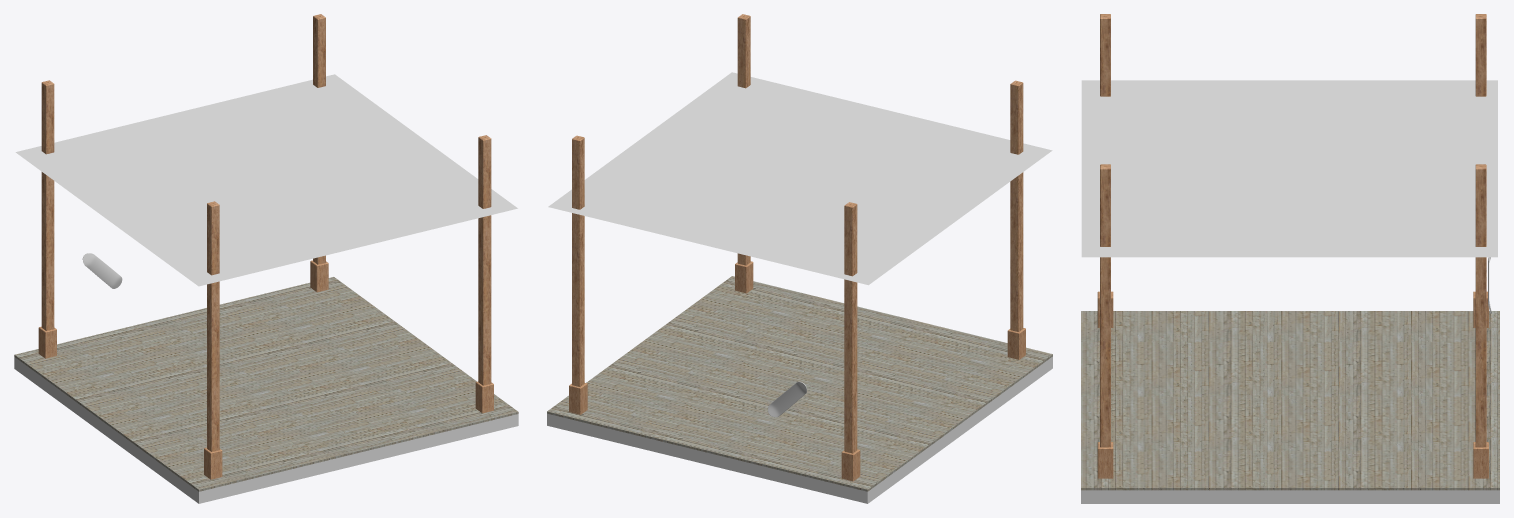
3 views of the same model, side by side, from view 1: azimuth 30°, elevation 25°; view 2: azimuth 150°, elevation 25°; view 3: azimuth 270°, elevation 25° (orthographic). The views are drawn at different scales.
Visible parts, largest first — view 1: Floor, Floor.004, Pole.006, Pole.001, Pole.003, Pole.002, Deck; view 2: Floor, Floor.004, Pole.001, Pole.002, Pole.003, Pole.006, Deck, Pole.004; view 3: Floor, Floor.004, Pole.002, Pole.006, Pole.001, Pole.003, Pole.008, Pole.005.
Part boxes in pixels (bbox=[...]): Floor: bbox=[14, 277, 518, 503]; Floor.004: bbox=[15, 74, 517, 286]; Pole.006: bbox=[478, 135, 491, 385]; Pole.001: bbox=[41, 80, 54, 330]; Pole.003: bbox=[207, 201, 219, 451]; Pole.002: bbox=[313, 14, 325, 264]; Deck: bbox=[82, 253, 122, 288]; Floor: bbox=[547, 276, 1052, 503]; Floor.004: bbox=[548, 72, 1052, 285]; Pole.001: bbox=[844, 202, 857, 453]; Pole.002: bbox=[572, 135, 584, 386]; Pole.003: bbox=[1010, 80, 1023, 331]; Pole.006: bbox=[737, 14, 750, 265]; Deck: bbox=[768, 381, 806, 417]; Pole.004: bbox=[841, 449, 860, 481]; Floor: bbox=[1081, 311, 1499, 503]; Floor.004: bbox=[1081, 80, 1497, 257]; Pole.002: bbox=[1475, 164, 1486, 447]; Pole.006: bbox=[1100, 164, 1110, 447]; Pole.001: bbox=[1475, 14, 1486, 96]; Pole.003: bbox=[1100, 14, 1110, 96]; Pole.008: bbox=[1097, 442, 1113, 478]; Pole.005: bbox=[1473, 442, 1488, 478].
Size of the model in its own units: 7.98 by 6.82 by 7.98.
Materials: 3 (2 with a texture image).
